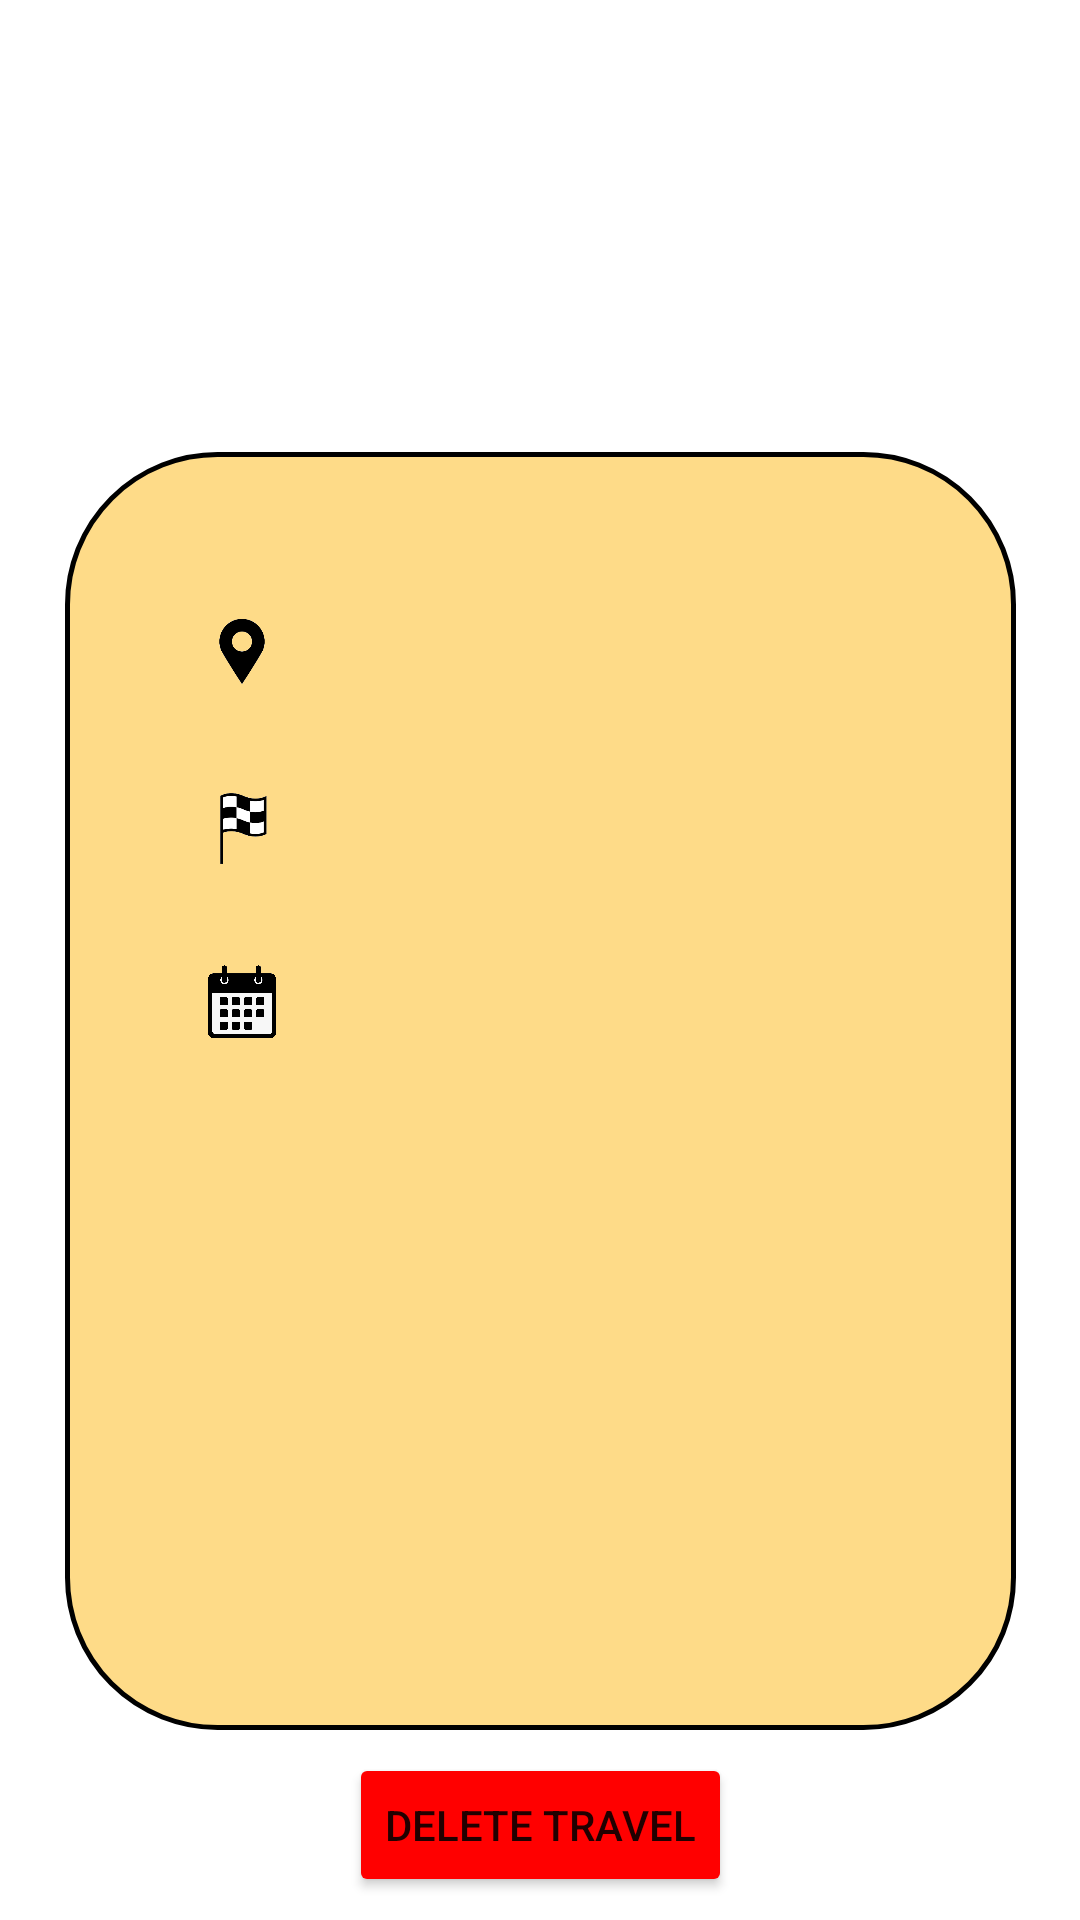

Icon click points for this 1080w x 1920h phone screenshot, format point (x, y):
calender: point (242, 1001)
finish: point (243, 828)
location: point (242, 651)
